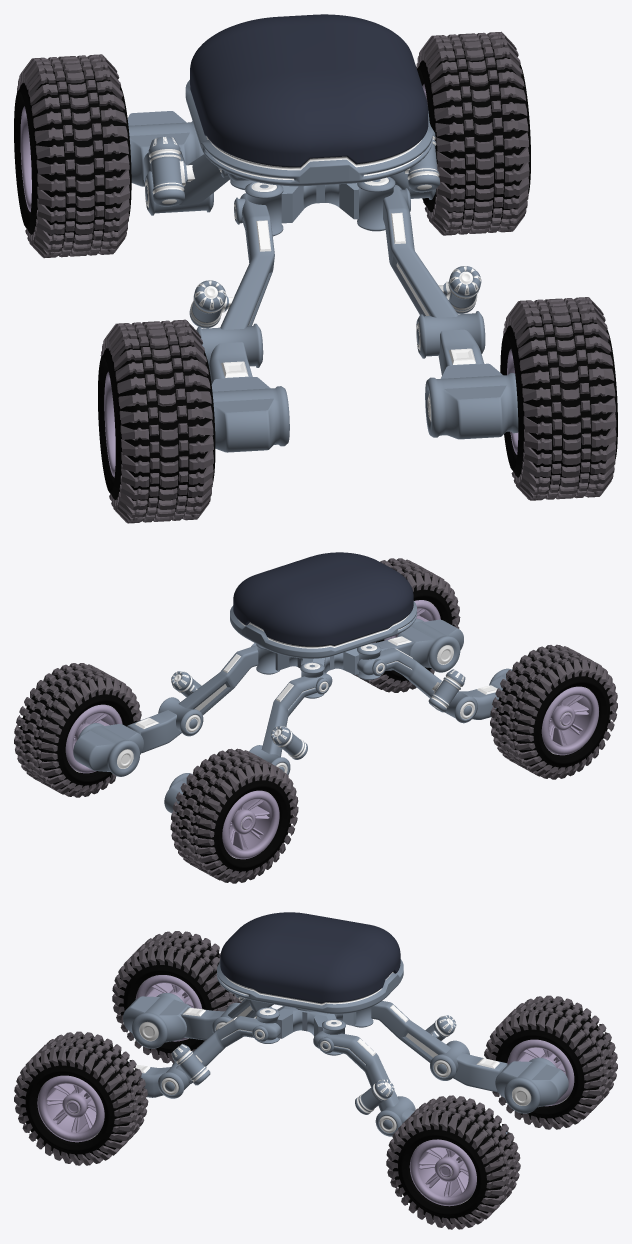
Rendered from DRON.glb.
3 renders of one model, top to bottom at view 1: azimuth 30°, elevation 25°; view 2: azimuth 150°, elevation 25°; view 3: azimuth 270°, elevation 25°, orthographic. The views are drawn at different scales.
Visible parts, largest first — view 1: Sphere; view 2: Sphere; view 3: Sphere.
Boxes of the visible parts, left/top/right/bottom form: Sphere: left=14, top=14, right=617, bottom=523; Sphere: left=14, top=552, right=617, bottom=883; Sphere: left=14, top=912, right=617, bottom=1229.
Size of the model in its own units: 8.08 by 3.74 by 10.05.
